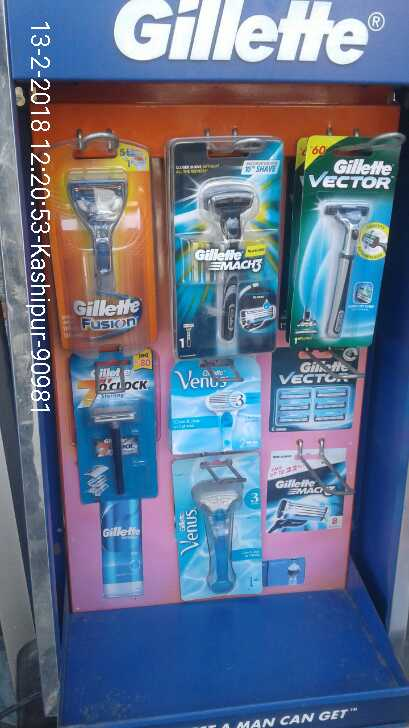beauty: (158, 128, 280, 356), (48, 140, 159, 357), (292, 123, 382, 352), (69, 351, 161, 511), (171, 457, 267, 599), (159, 357, 267, 456)
